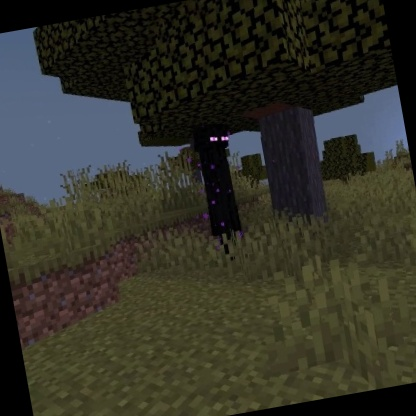enderman: (188, 118, 253, 266)
